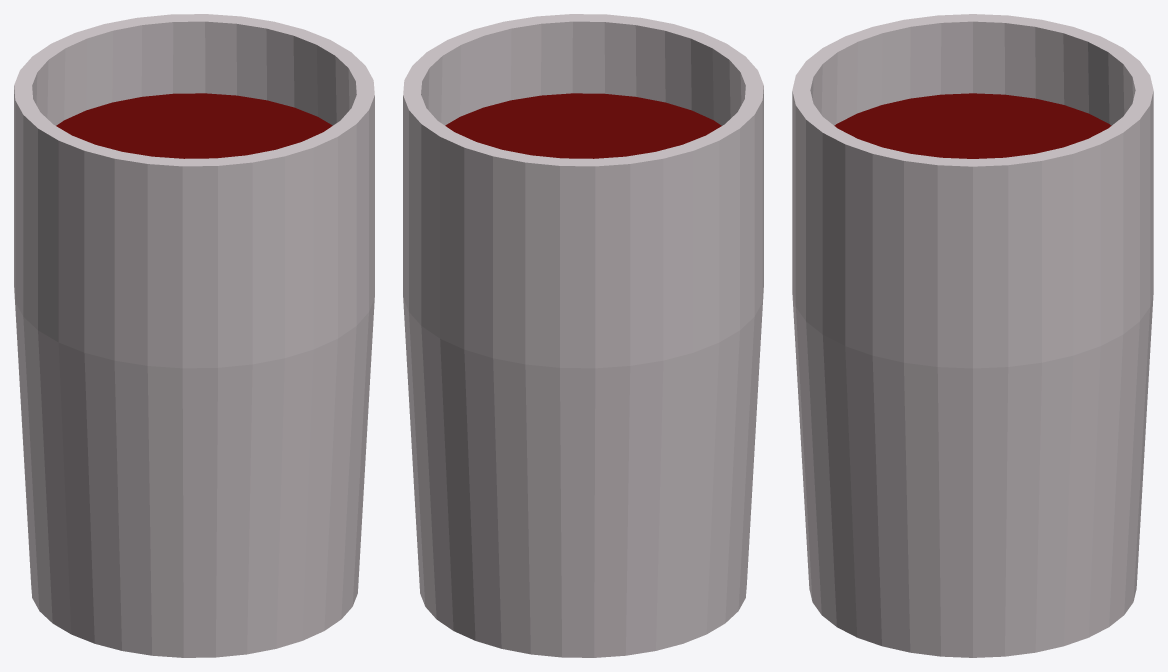
File: Iced Tea.fbx
The picture shows the model from 3 angles, left to right: view 1: azimuth 30°, elevation 25°; view 2: azimuth 150°, elevation 25°; view 3: azimuth 270°, elevation 25°; orthographic projection.
Parts seen in each view (by area): view 1: Iced Tea; view 2: Iced Tea; view 3: Iced Tea.
Part boxes in pixels (x1=…): Iced Tea: x1=14, y1=14, x2=374, y2=657; Iced Tea: x1=403, y1=14, x2=763, y2=657; Iced Tea: x1=792, y1=14, x2=1153, y2=657.
Size of the model in its own units: 221 by 221 by 336.
